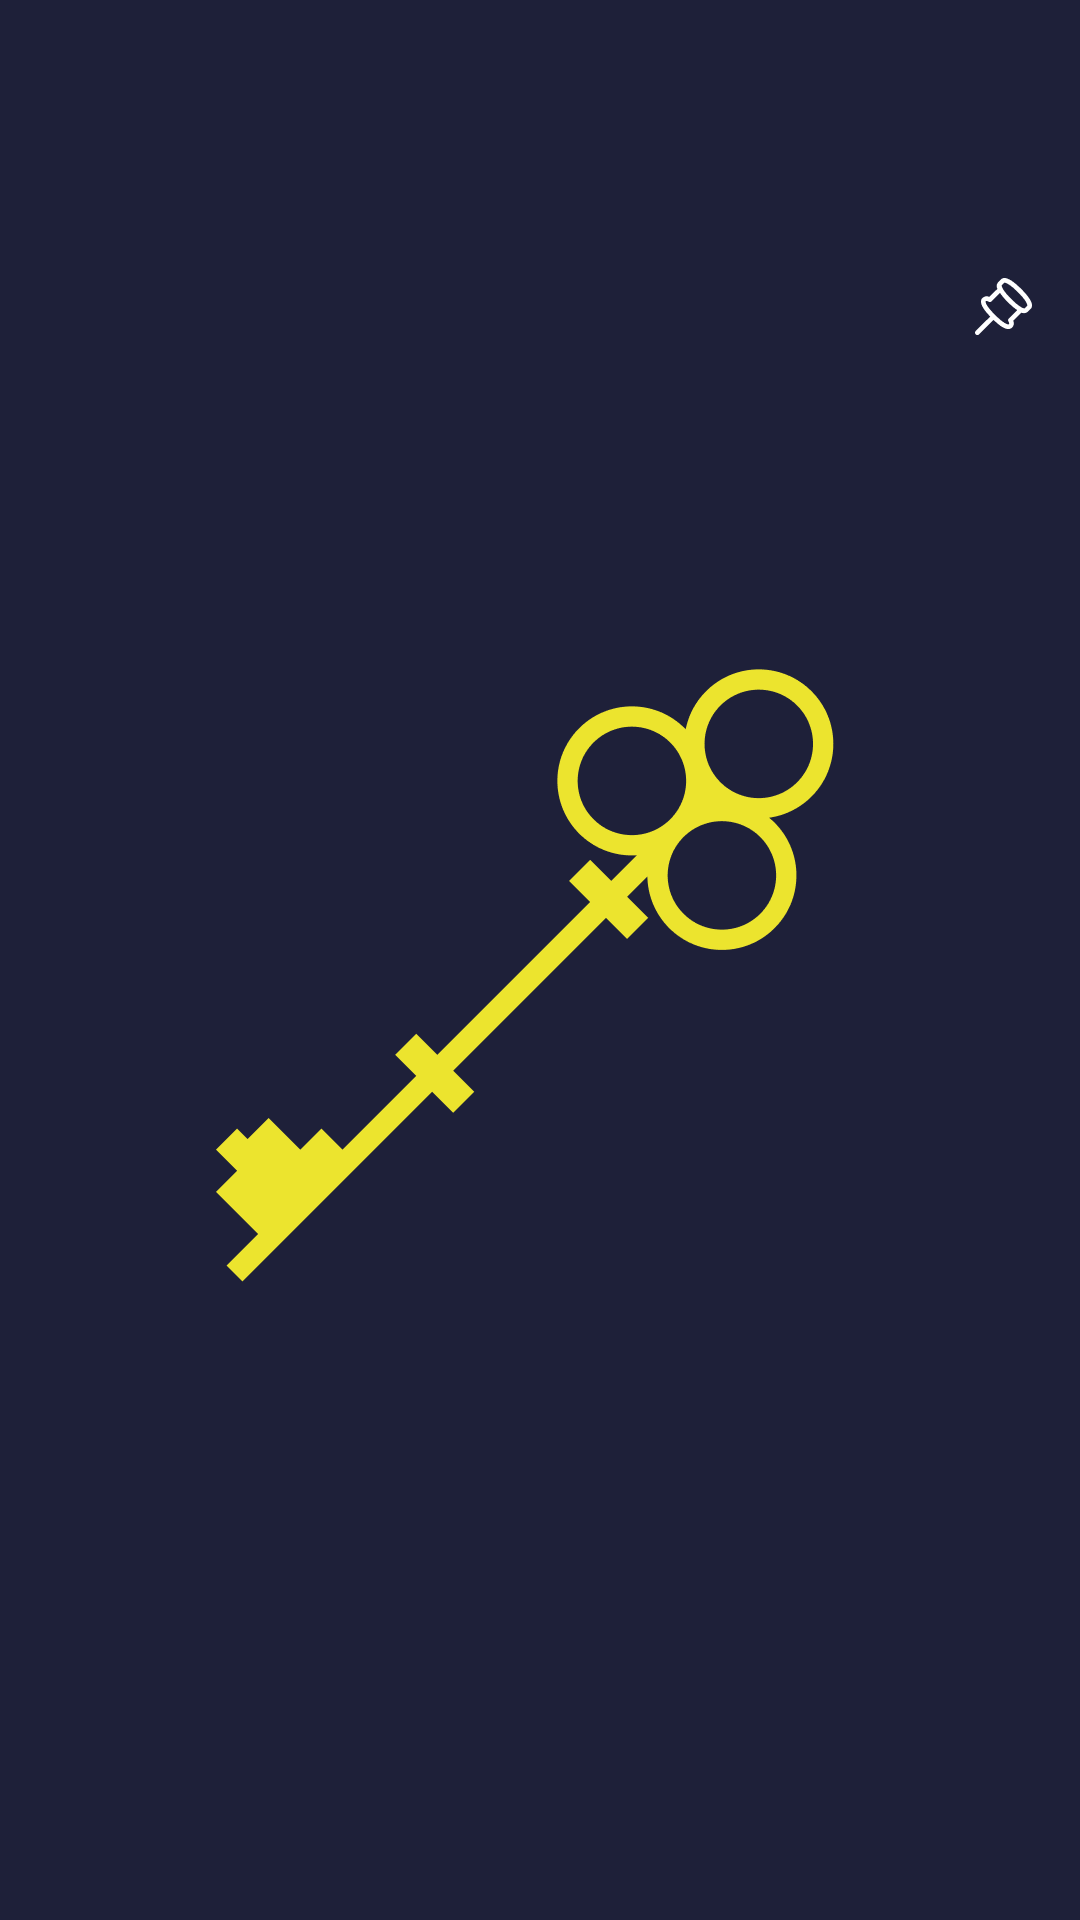

Where icons sit on this 1080x1920 app screen, as (x1, y1, x2, y2):
pin: (975, 278, 1032, 335)
